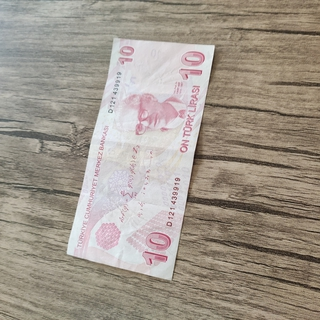10TLBack: (65, 35, 216, 281)
